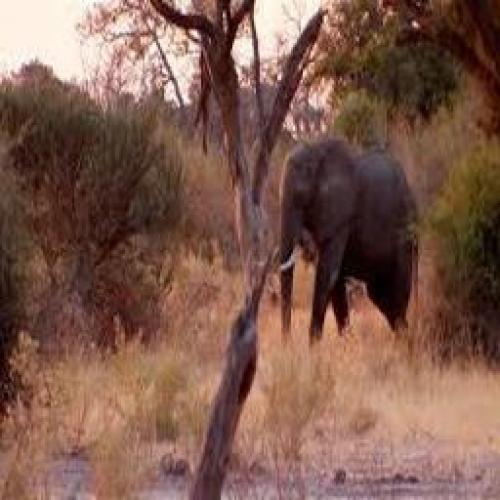african_elephant-endangered: (259, 131, 440, 351)
